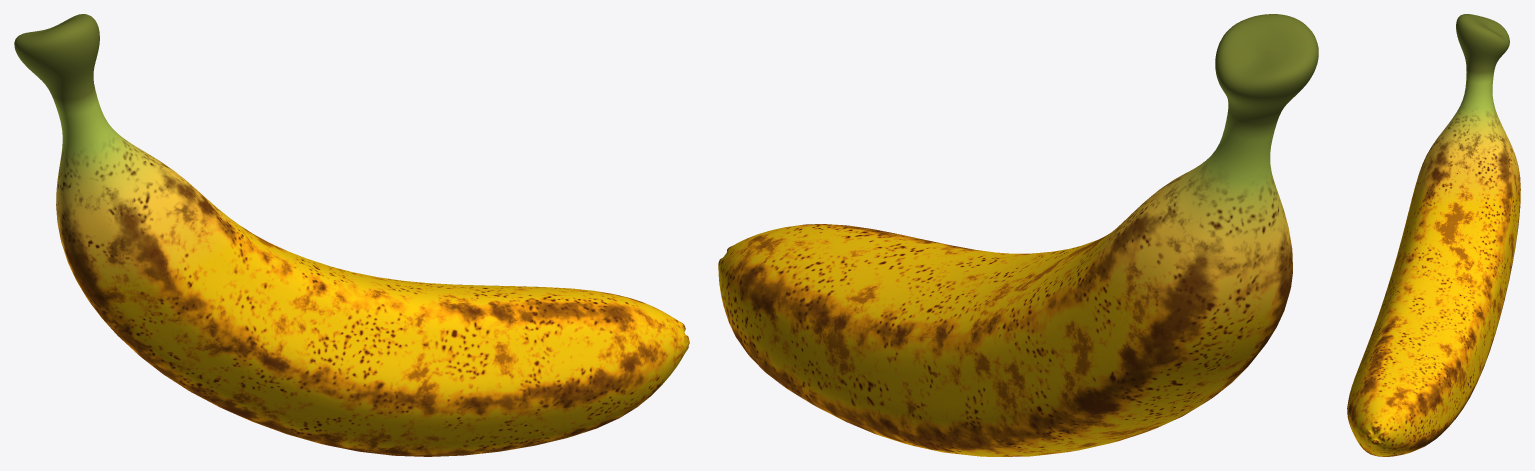
The model's file is low_poly_banana.glb.
3 views of the same model, side by side, from view 1: azimuth 30°, elevation 25°; view 2: azimuth 150°, elevation 25°; view 3: azimuth 270°, elevation 25° (orthographic). The views are drawn at different scales.
Parts seen in each view (by area): view 1: Banana; view 2: Banana; view 3: Banana.
Boxes of the visible parts, <box> form: Banana: <box>14,14,689,456</box>; Banana: <box>718,14,1318,456</box>; Banana: <box>1347,14,1520,456</box>.
Bounding box in the file's own units: 2.45 × 1.89 × 0.9887.
Materials: 1 (1 with a texture image).
